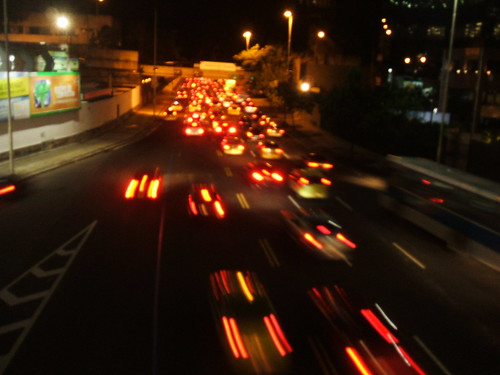car: (278, 203, 356, 268), (119, 160, 170, 209), (180, 174, 231, 223), (283, 163, 329, 204), (244, 156, 290, 197), (213, 132, 250, 160), (178, 118, 208, 141)
light pole: (278, 4, 296, 62), (238, 27, 255, 53)
road: (1, 102, 500, 375)
